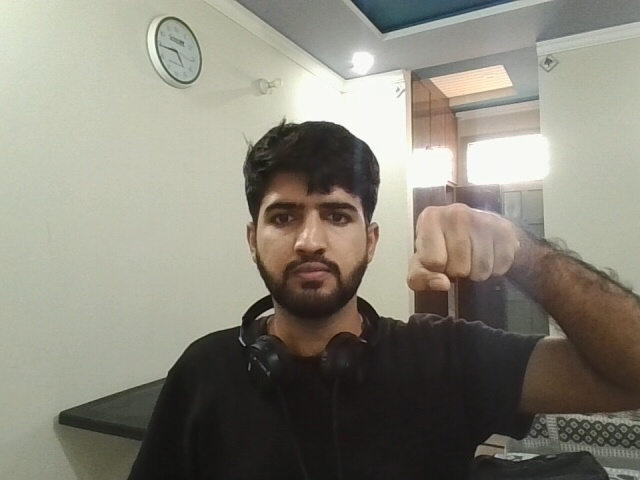Yes: (402, 196, 532, 312)
